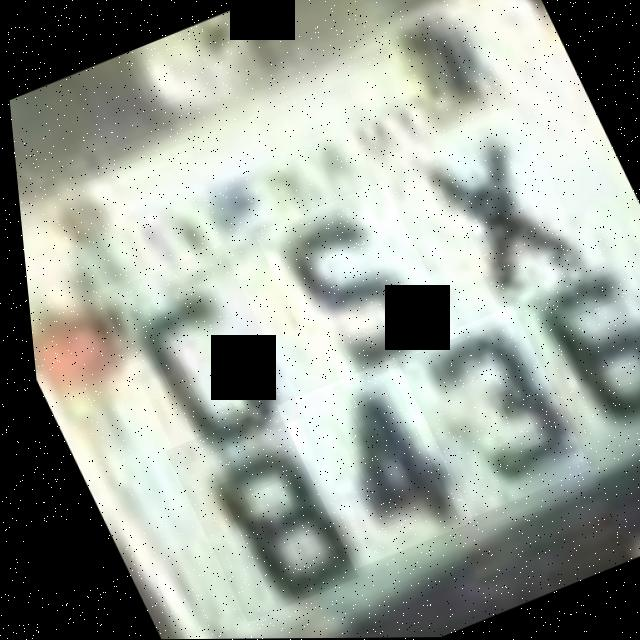3: (371, 306, 586, 523)
4: (264, 358, 467, 571)
6: (502, 268, 640, 467)
8: (153, 406, 351, 623)
G: (89, 245, 299, 467)
S: (246, 181, 456, 390)
X: (378, 105, 599, 337)
